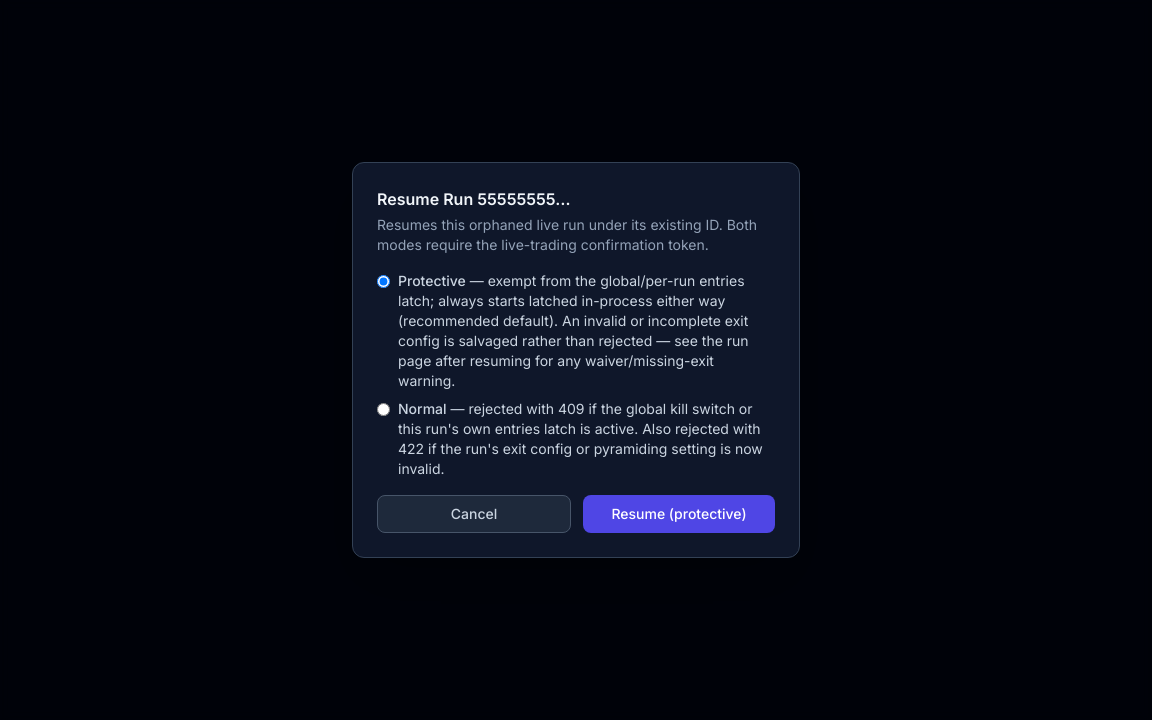
Test: ResumeRunDialog — structured exit-config 422 (normal mode) › falls back to the generic message for a 409 kill-switch-active detail
This screenshot has width=1152, height=720.
Click the radio button labelled "Normal" at (384, 410), box 377,403 -> 390,416
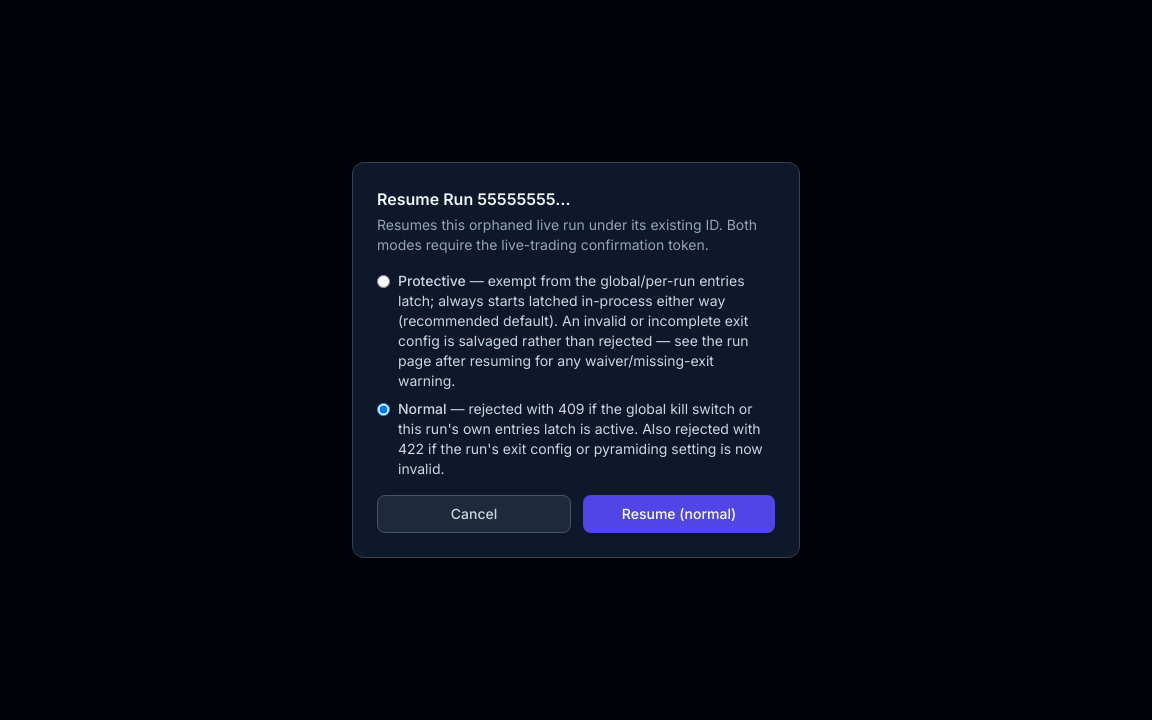
Click the button "Resume (normal)" at (679, 514), box 583,495 -> 775,533
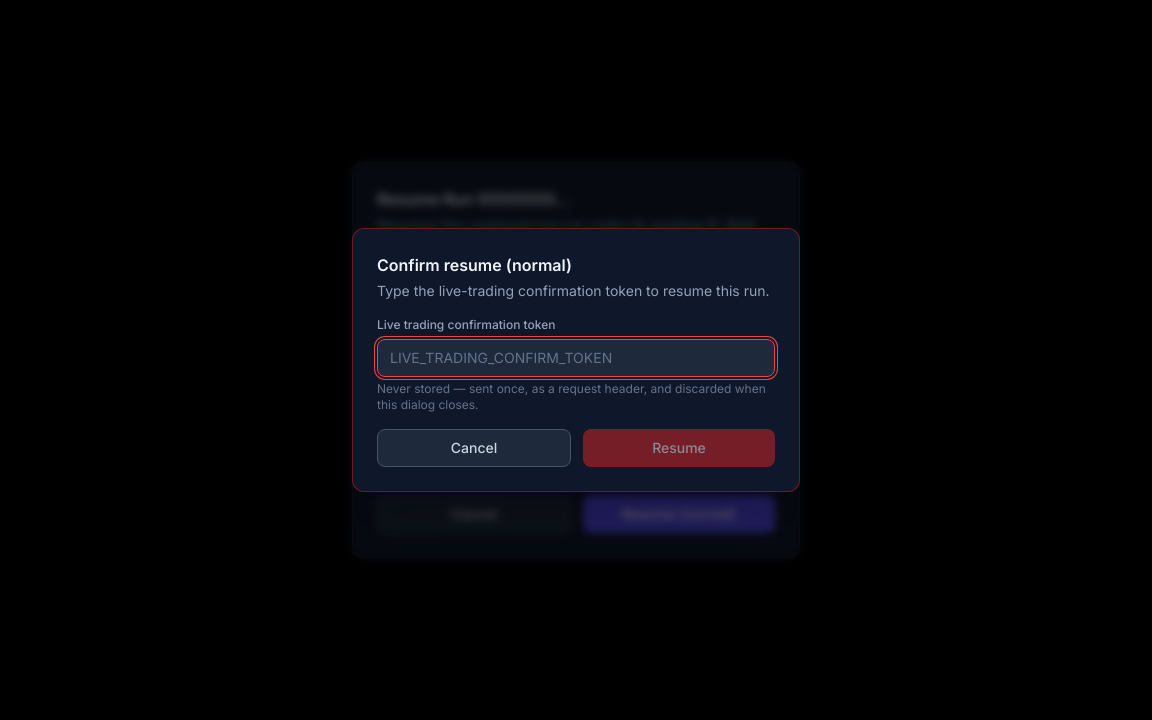
Type "typed-secret" into the password field labelled "Live trading confirmation token" at (576, 358), box 377,339 -> 775,377
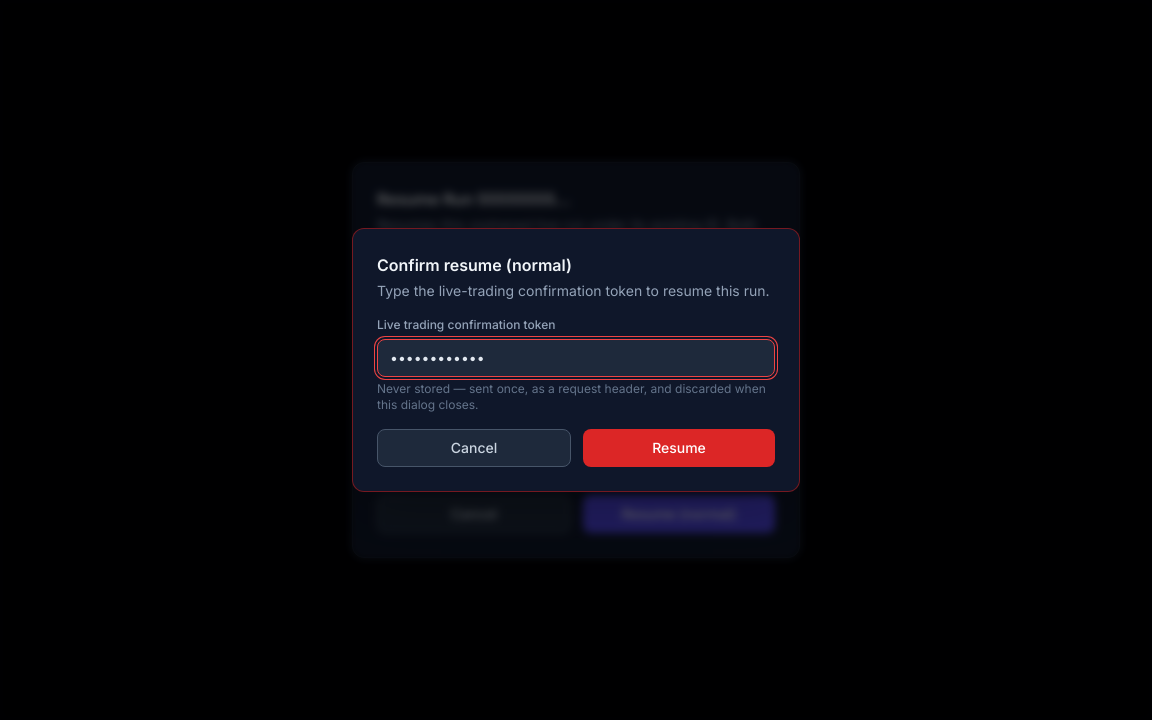
Click the button "Resume" at (679, 448), box 583,429 -> 775,467
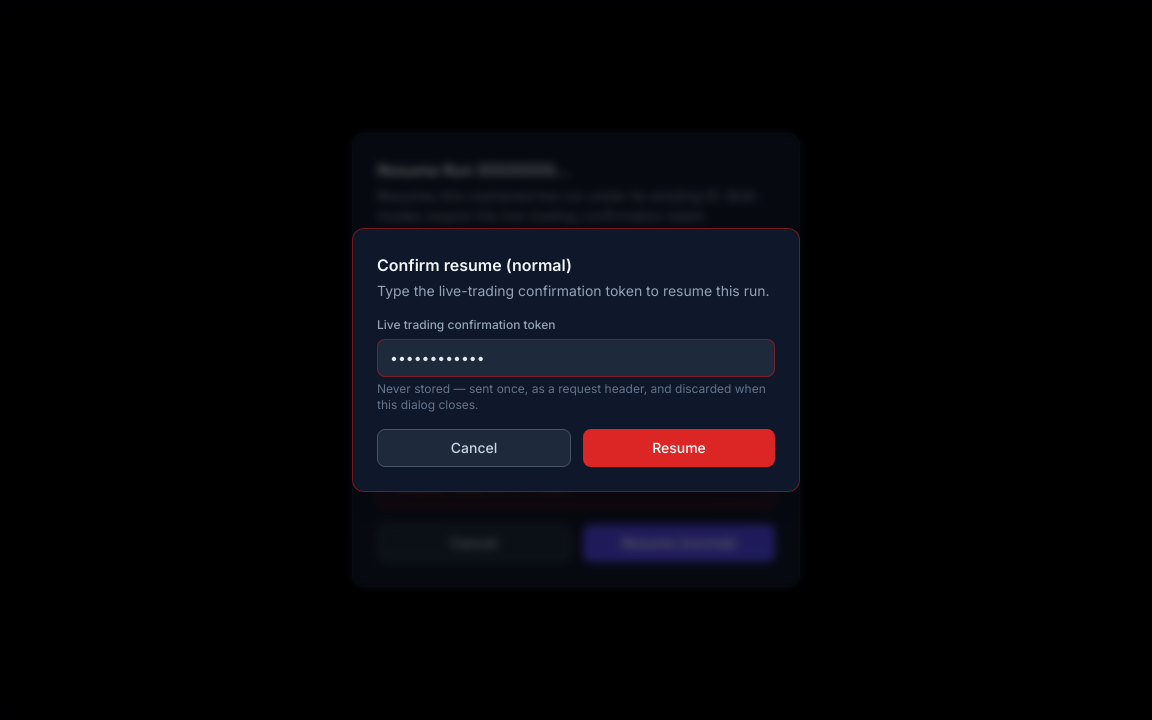
Result: the text "Request failed (HTTP 422)" is shown at 377,462 -> 775,508
